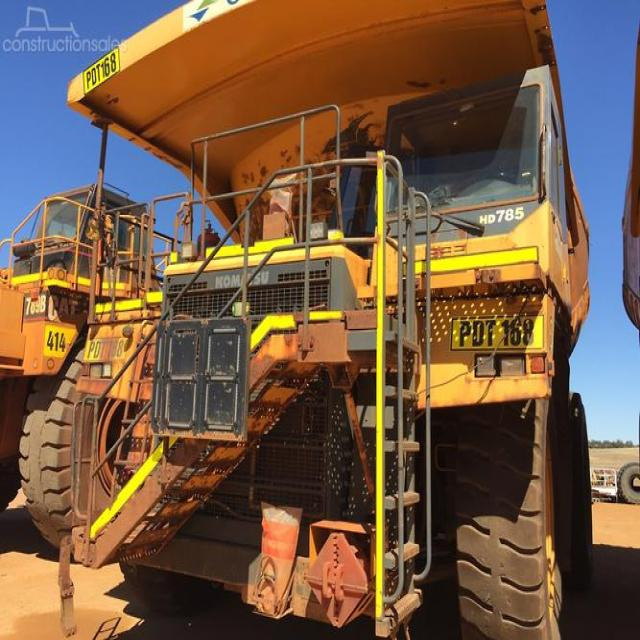dump_truck: (68, 2, 594, 640)
